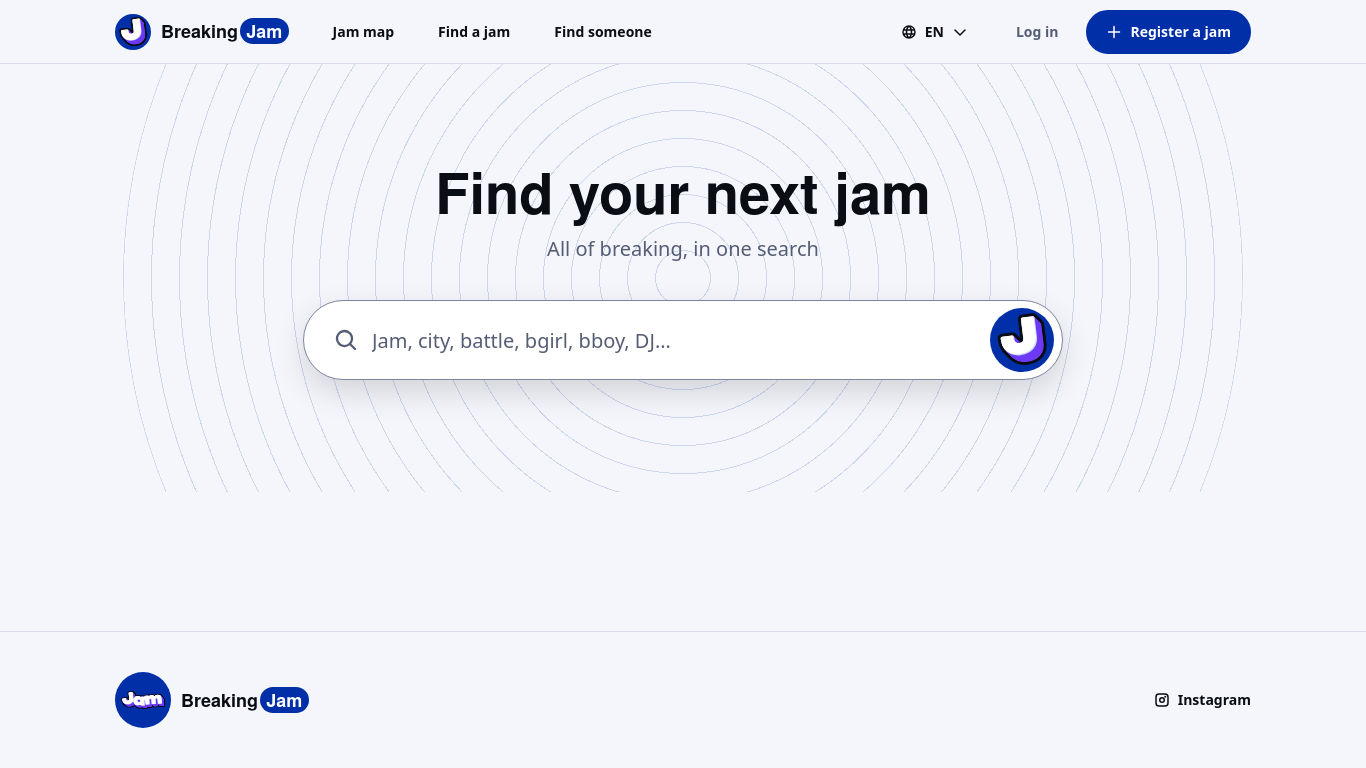
Scenario: PeoplePage › is in the header
Click the link "Find someone": (603, 31) [554, 22, 652, 40]
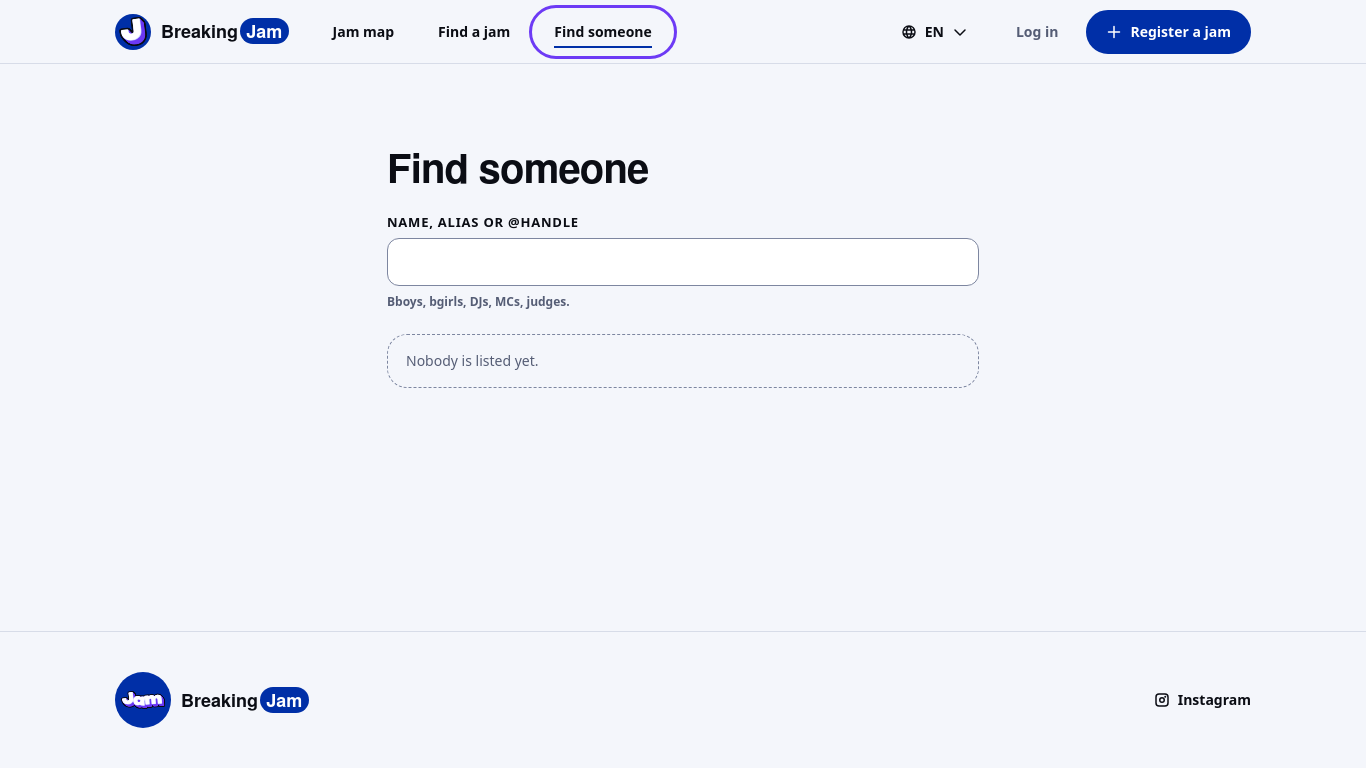
Result: the heading "Find someone" is shown at [387, 138, 649, 195]
